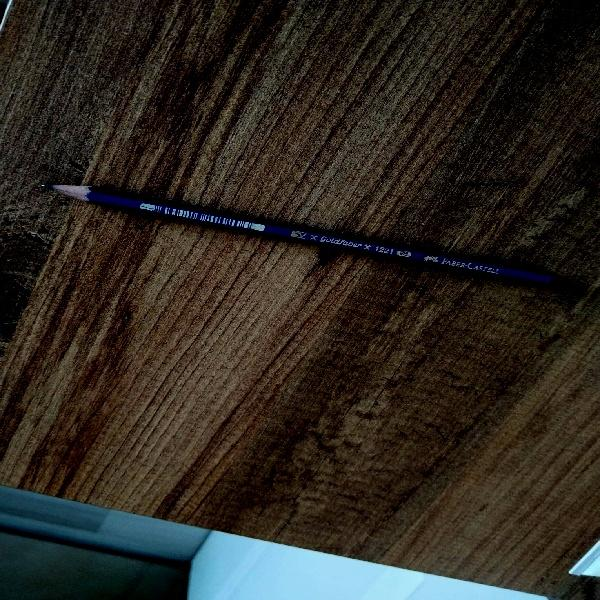pencil: (35, 162, 587, 309)
